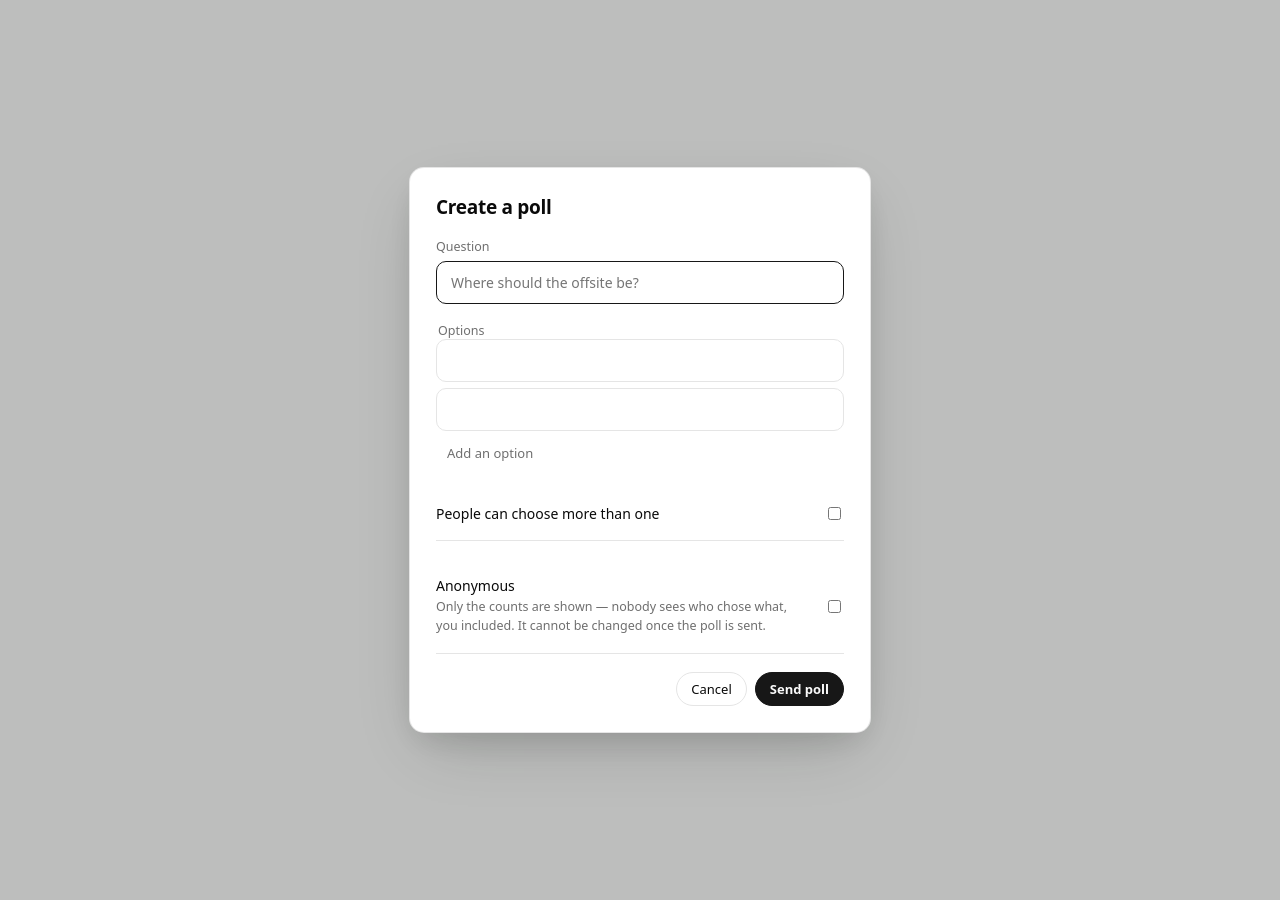
Scenario: asking a poll › asks for a question and two options before sending anything
Click the button "Send poll".
click(799, 689)  # box [755,672,844,706]
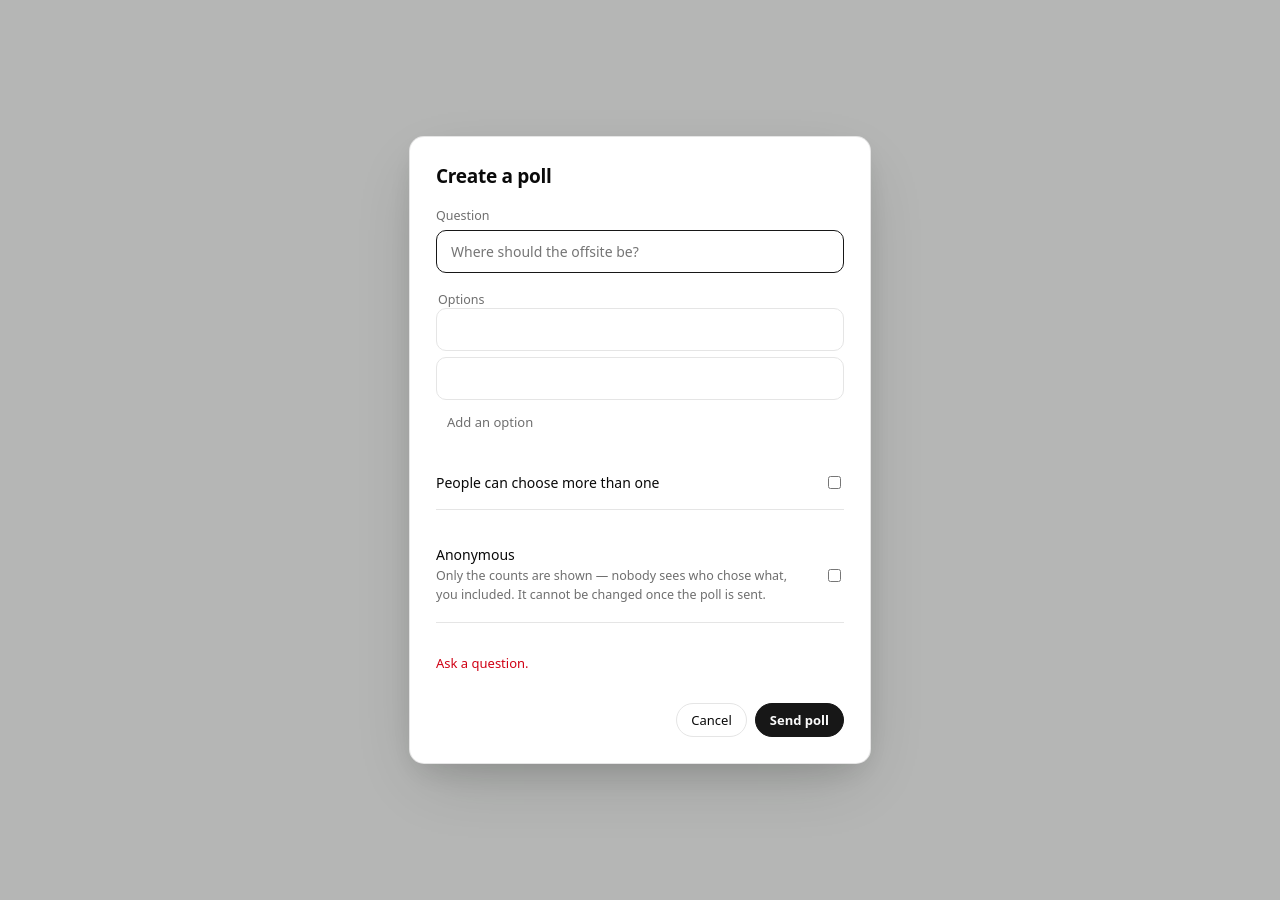
Result: the text "Ask a question." is shown at [436,654,529,672]
Type "Lunch?" into the field labelled "Question".
click(640, 252); type("Lunch?")  # box [436,230,844,273]
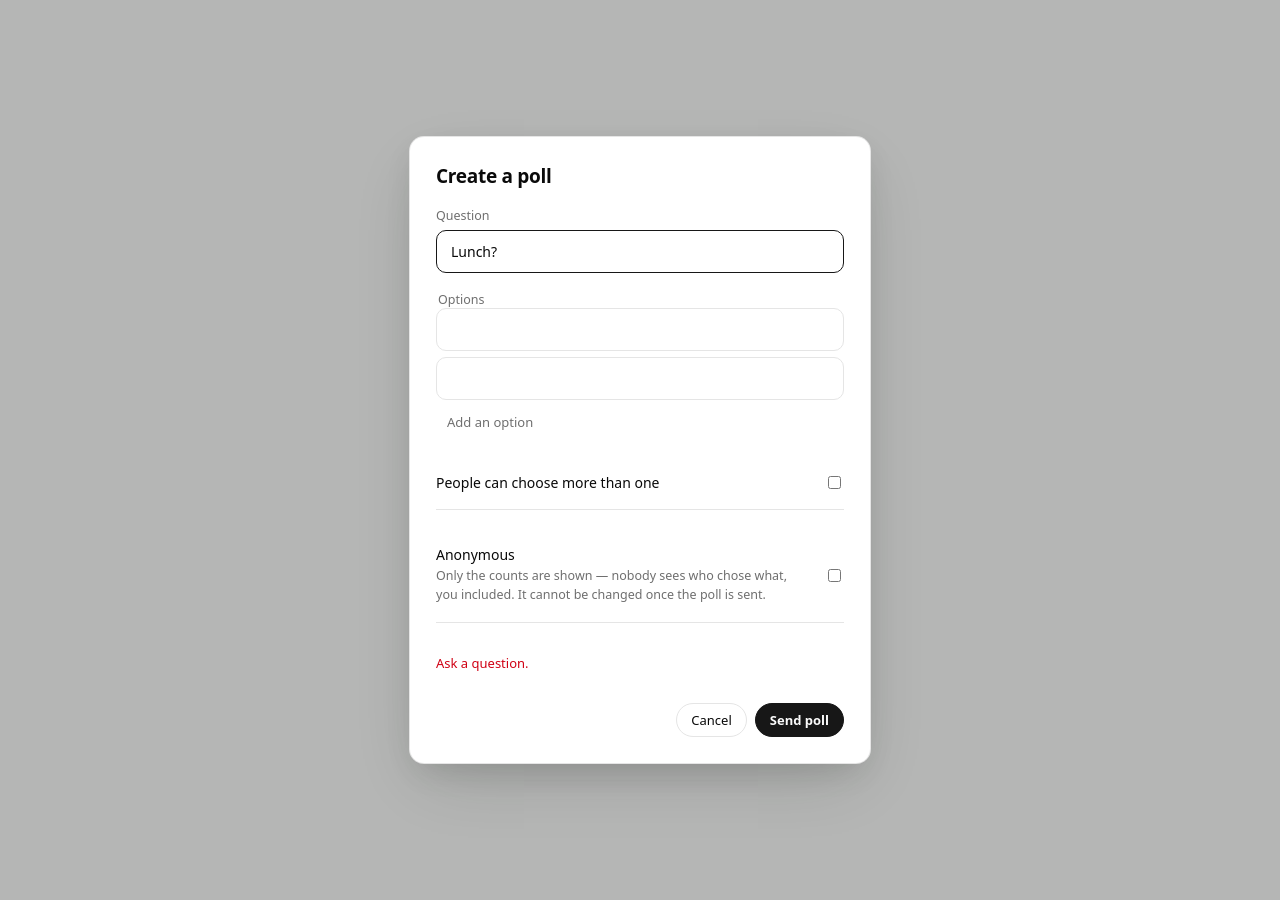
Type "Yes" into the field named "Option 1".
click(640, 330); type("Yes")  # box [436,308,844,351]
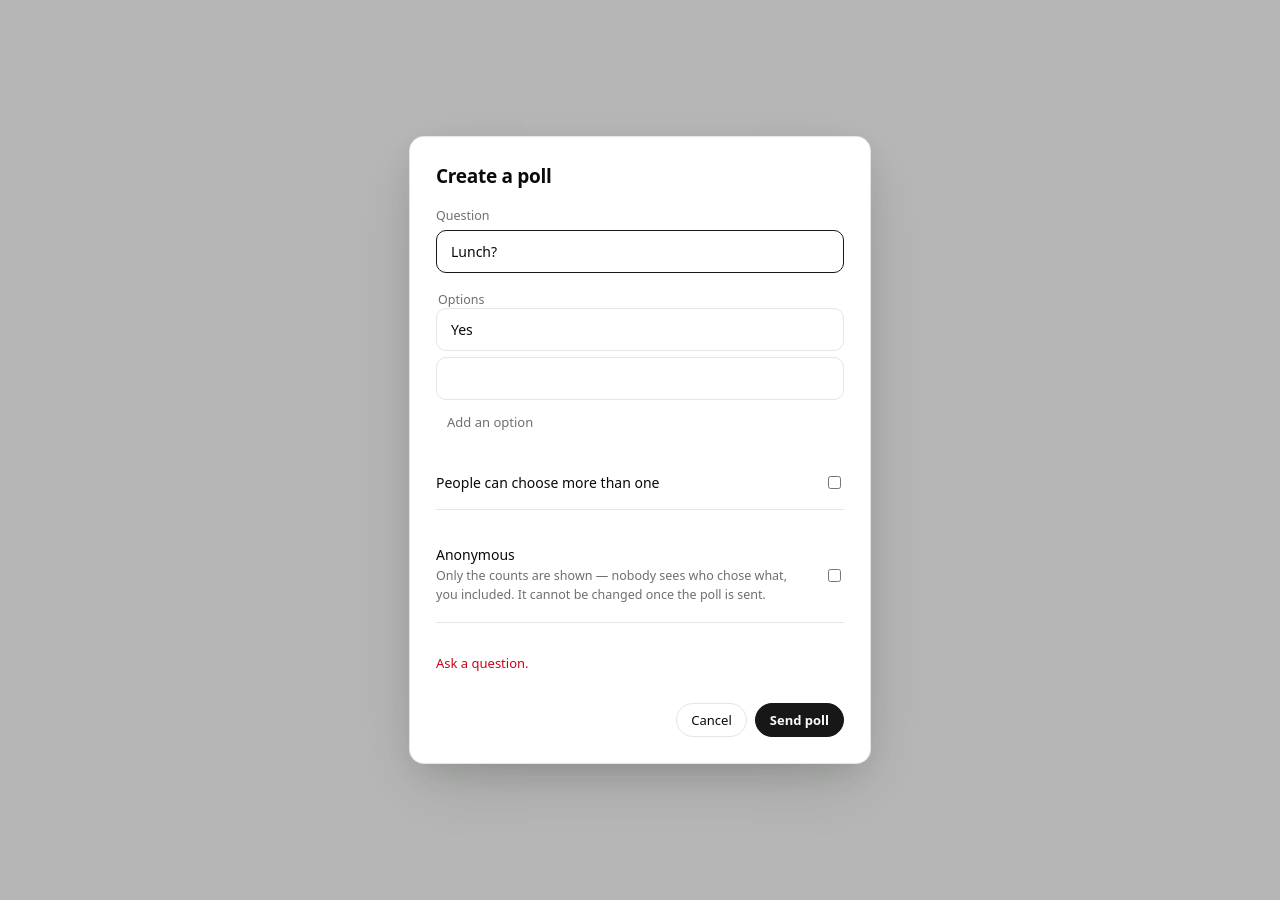
Click the button "Send poll".
click(799, 720)  # box [755,703,844,737]
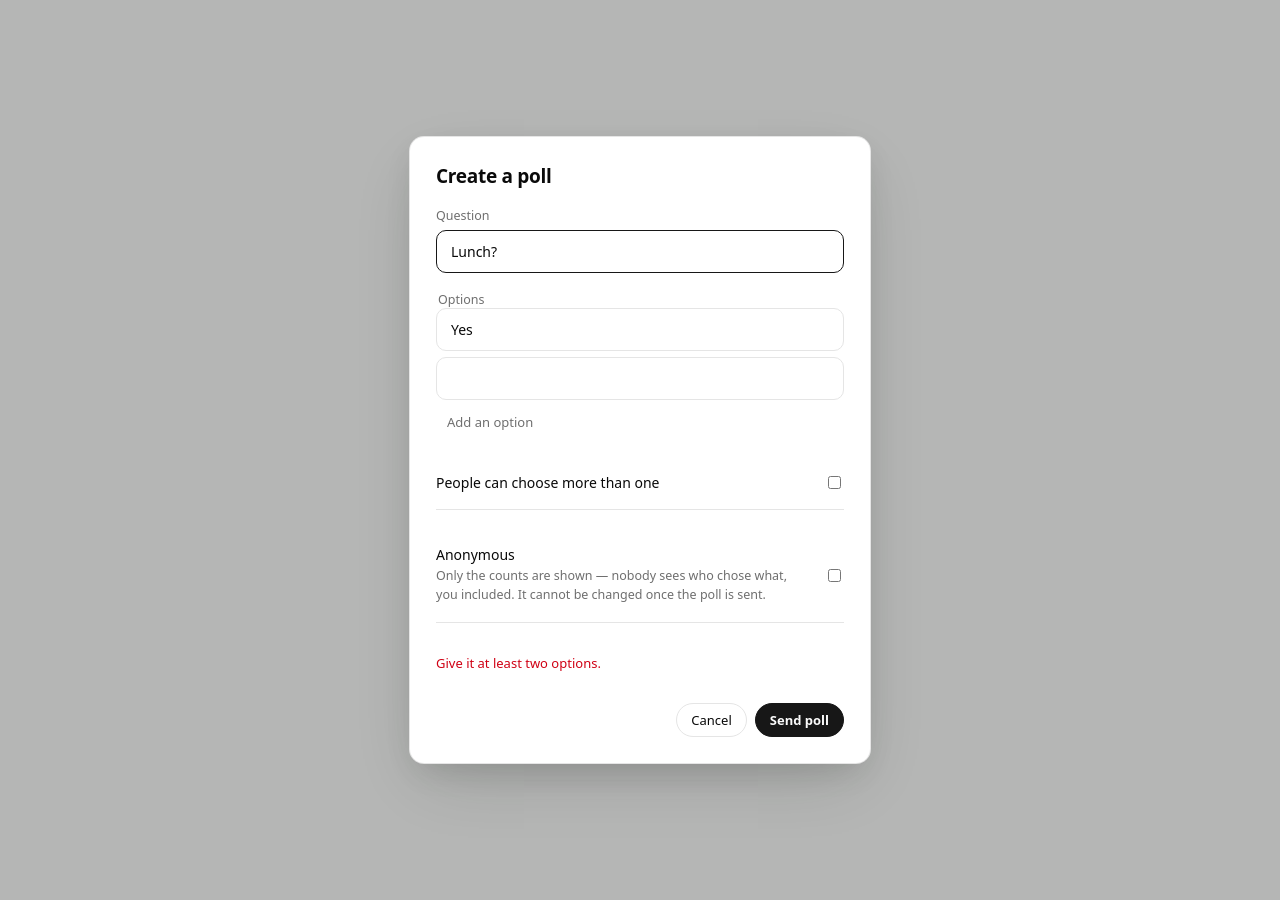
Result: the text "Give it at least two options." is shown at [436,654,601,672]
